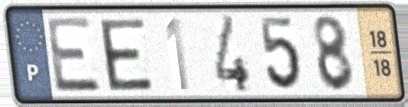1: (164, 17, 191, 92)
4: (212, 13, 253, 95)
5: (258, 15, 304, 93)
8: (311, 13, 358, 94)
E: (43, 15, 105, 95), (96, 16, 156, 93)
